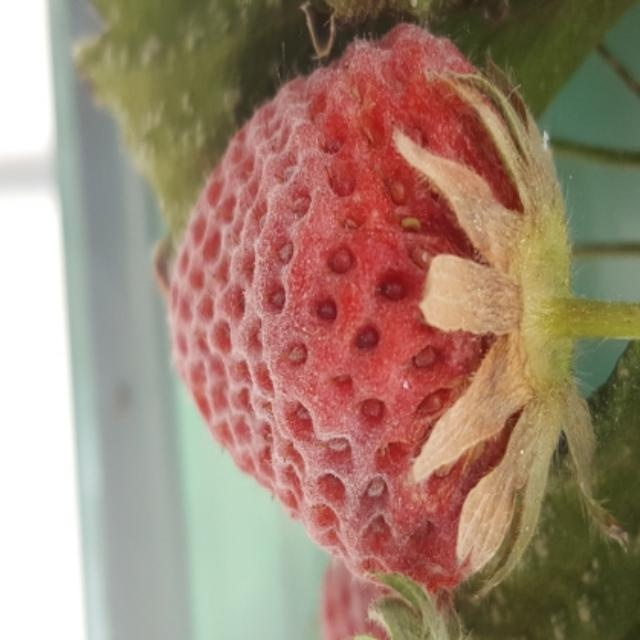Powdery Mildew Fruit: (166, 21, 558, 590)
